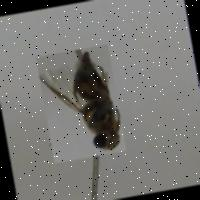Oriental-fruit-fly: (34, 44, 126, 163)
